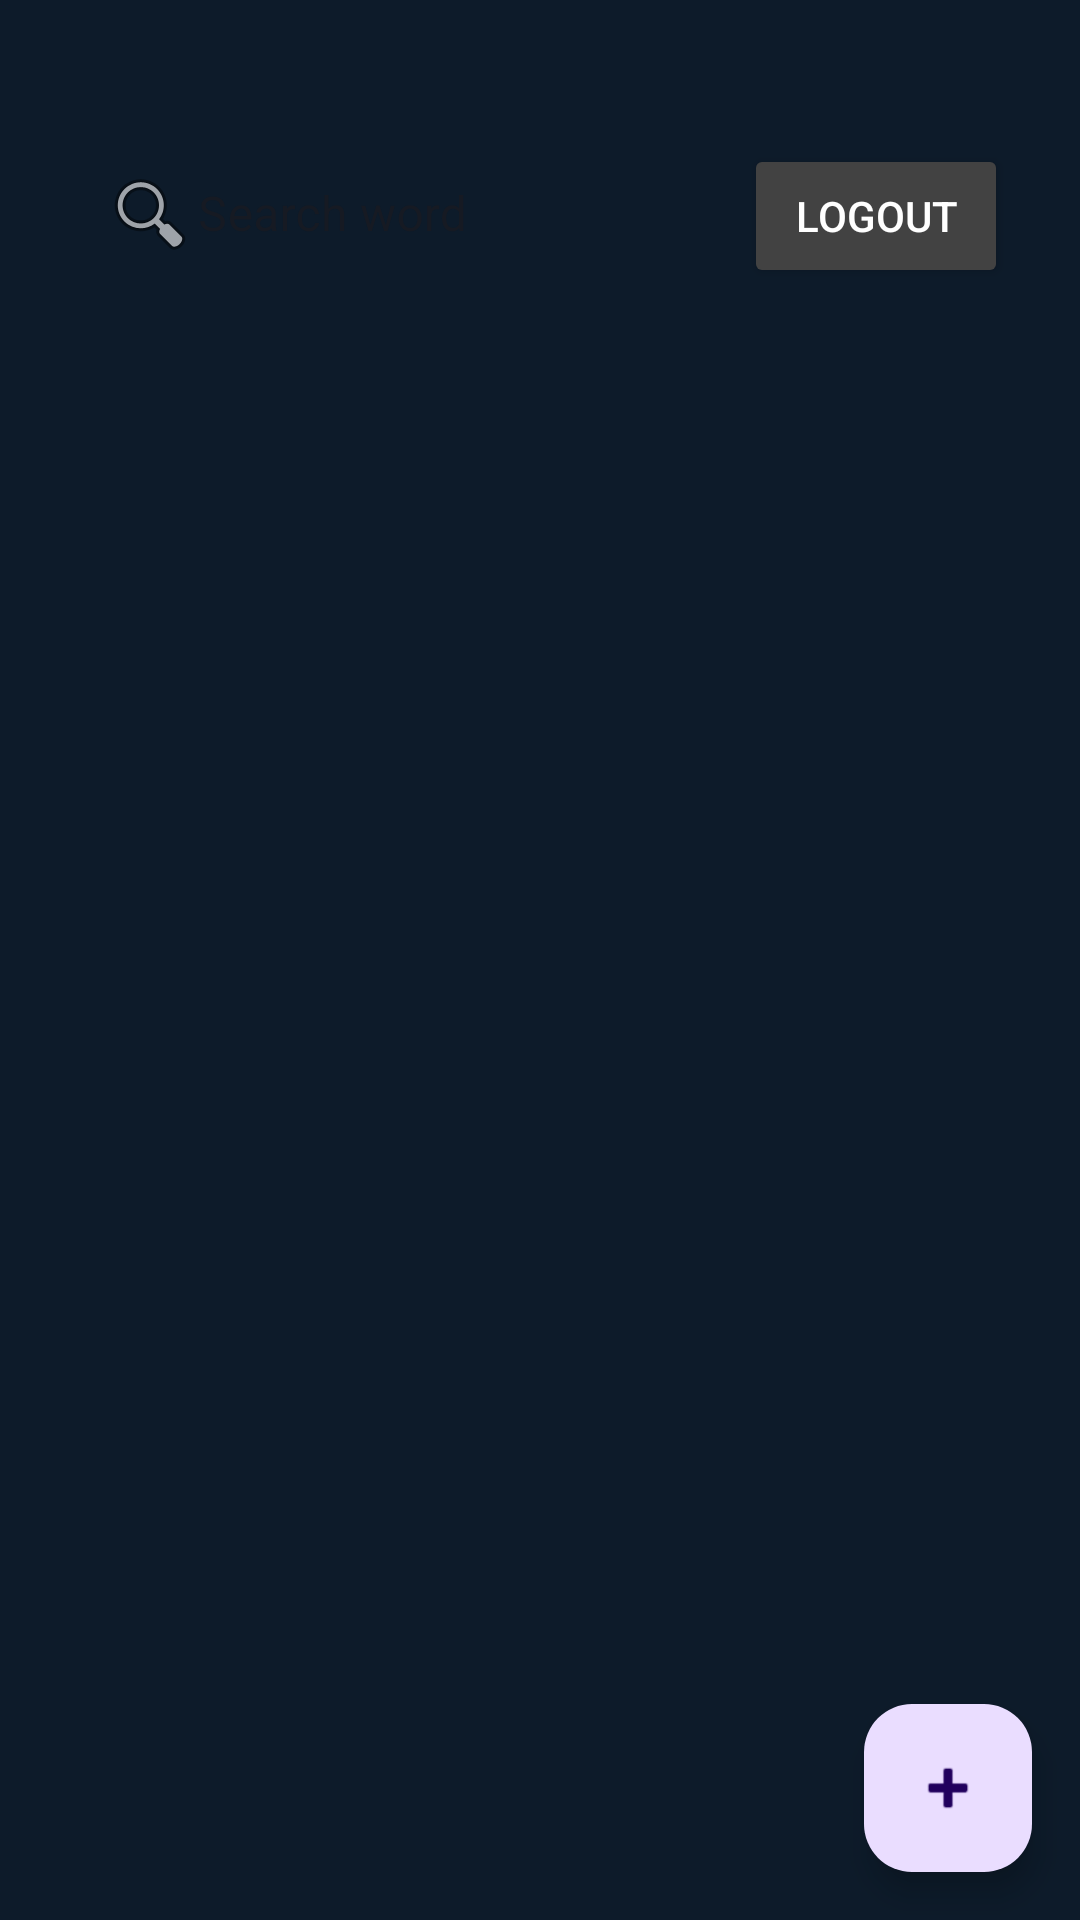

Icon bounding boxes for this 1080w x 1920h phone screenshot, format [x1, y1, x2, y2]:
Add Word: [864, 1704, 1032, 1872]
